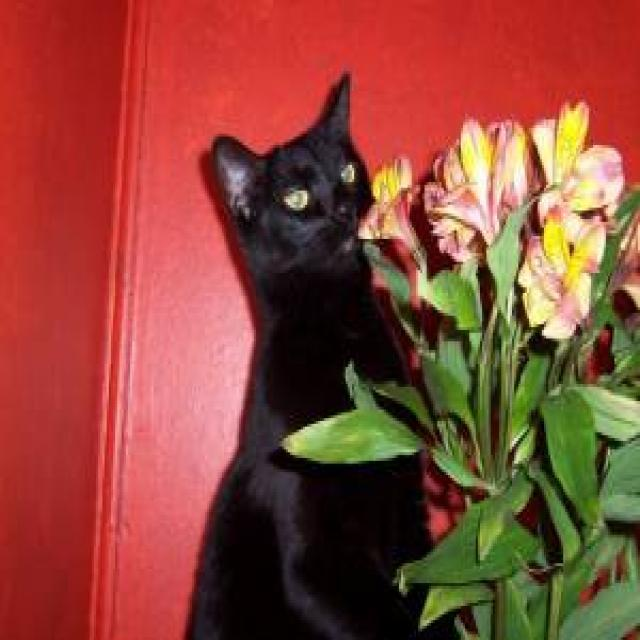Bombay: (207, 69, 371, 268)
